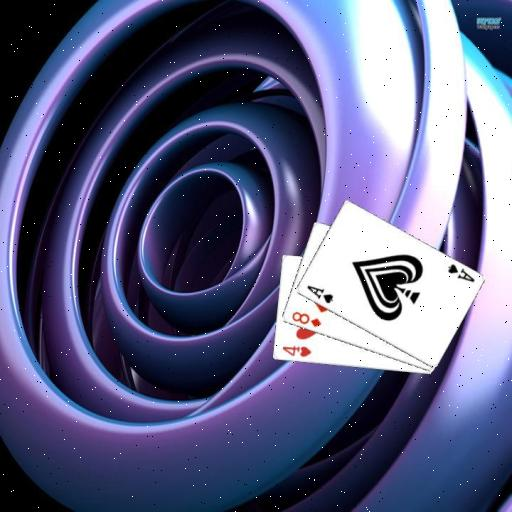4H: (279, 343, 313, 359)
8D: (288, 309, 323, 329)
AS: (444, 261, 476, 284), (304, 282, 334, 305)
